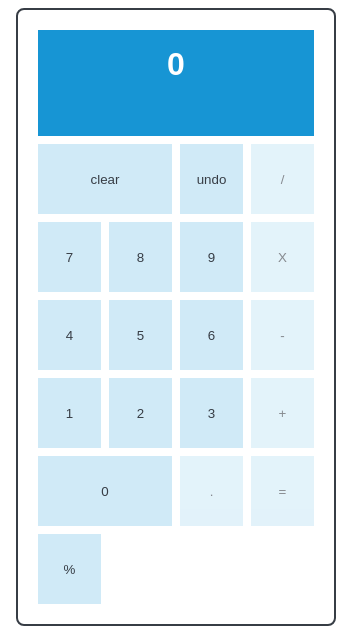
Scenario: Should convert percentage into decimal
Click the button "5".
click(140, 335)  # box [109, 300, 172, 370]
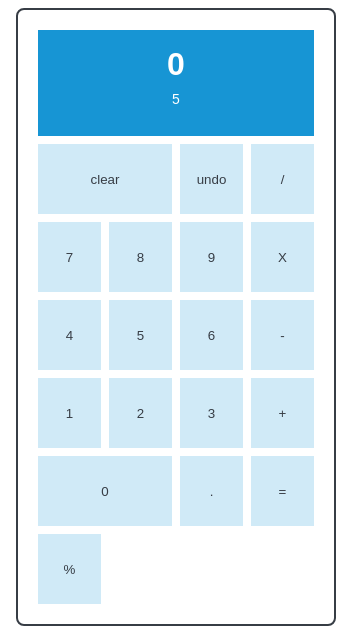
Click the button "0".
click(105, 491)  # box [38, 456, 172, 526]
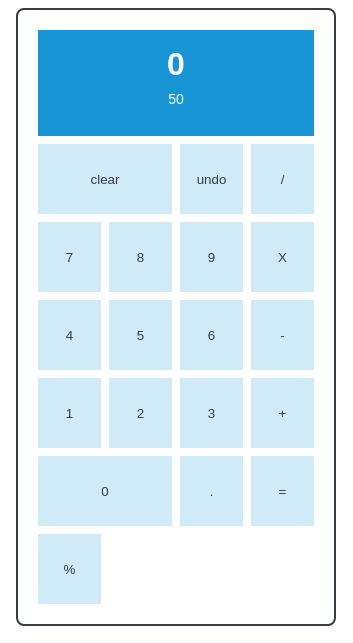
Click the button "%".
click(70, 569)  # box [38, 534, 101, 604]
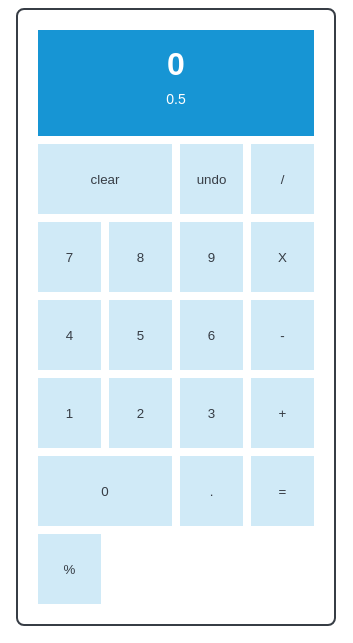
Check: the heading "0.5" is shown, box [166, 91, 186, 107]
